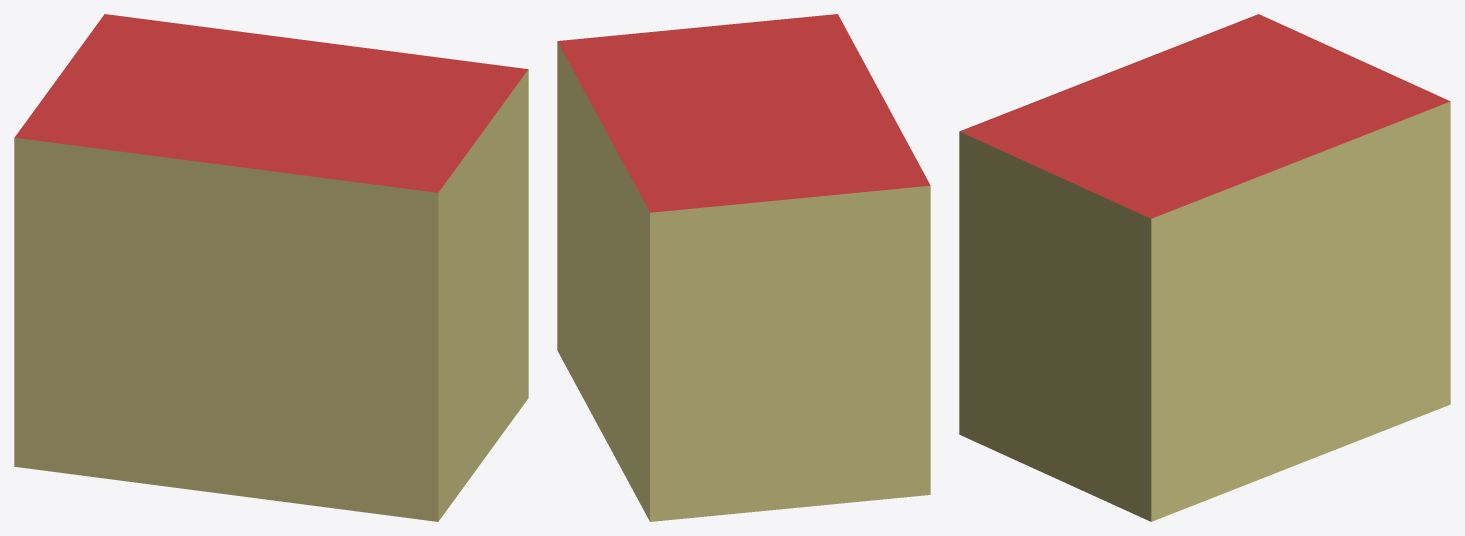
3 renders of one model, left to right at view 1: azimuth 30°, elevation 25°; view 2: azimuth 150°, elevation 25°; view 3: azimuth 270°, elevation 25°, orthographic. The views are drawn at different scales.
Size of the model in its own units: 8.46 by 8.57 by 5.83.
